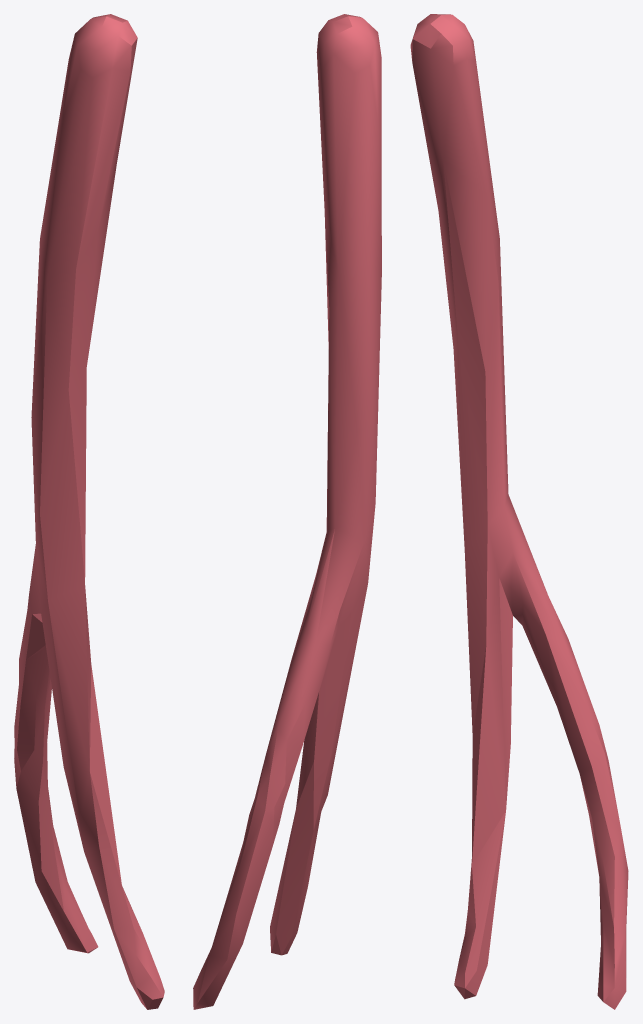
File: fma49495_fj5112.glb
3 renders of one model, left to right at view 1: azimuth 30°, elevation 25°; view 2: azimuth 150°, elevation 25°; view 3: azimuth 270°, elevation 25°, orthographic. The views are drawn at different scales.
Parts seen in each view (by area): view 1: FMA49495_FJ5112; view 2: FMA49495_FJ5112; view 3: FMA49495_FJ5112.
Part boxes in pixels (<box>): FMA49495_FJ5112: <box>14,14,164,1009</box>; FMA49495_FJ5112: <box>193,14,381,1009</box>; FMA49495_FJ5112: <box>410,14,628,1009</box>.
Size of the model in its own units: 0.00242 by 0.0183 by 0.00377.
